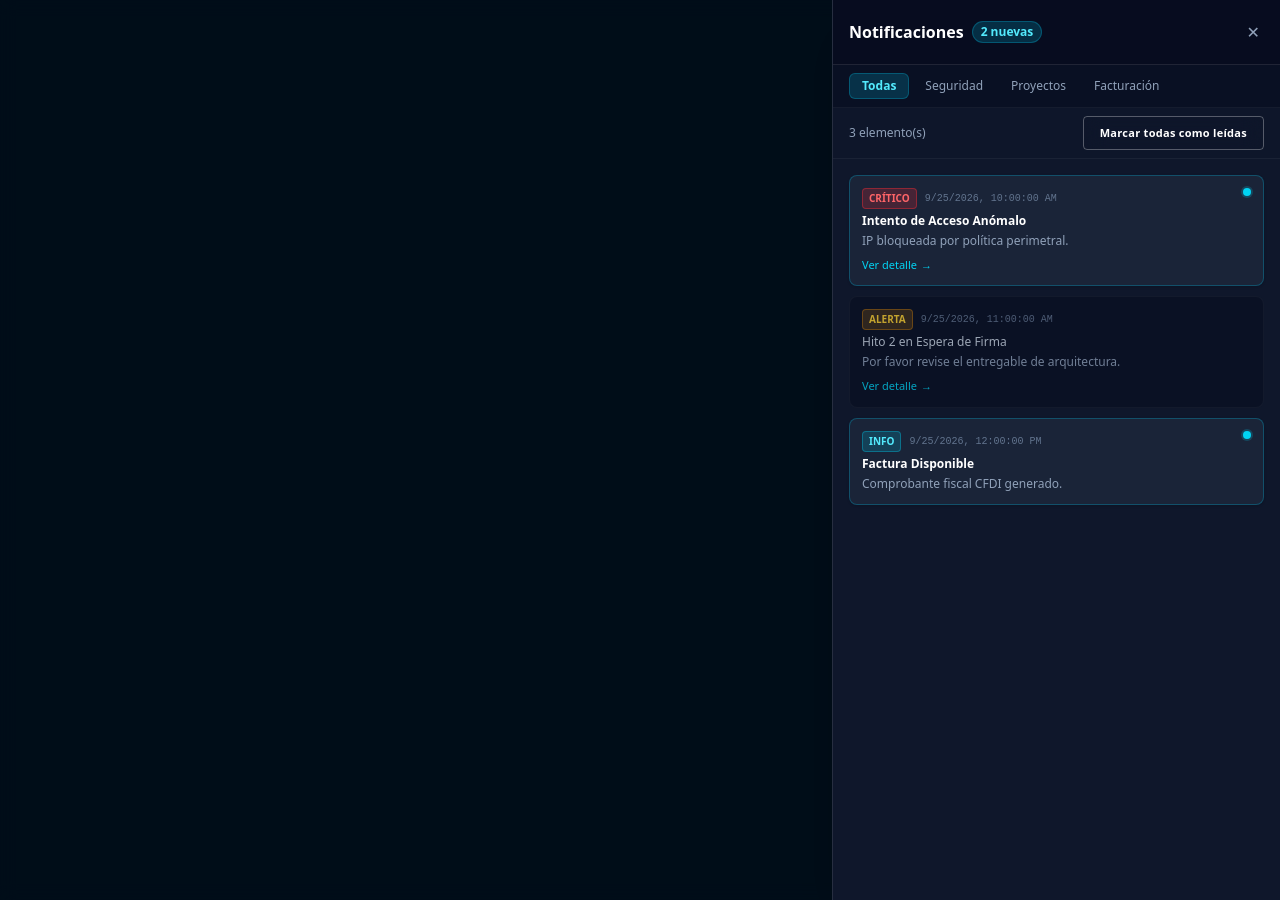
it: FC 053: Frontend Client Notification Center & Security Webhooks Suite › 2. NotificationDrawer Component › debe manejar error al marcar todas como leídas y mostrar mensaje en el panel
Click the button "Marcar todas como leídas" at (1173, 133), box [1083, 116, 1264, 150]
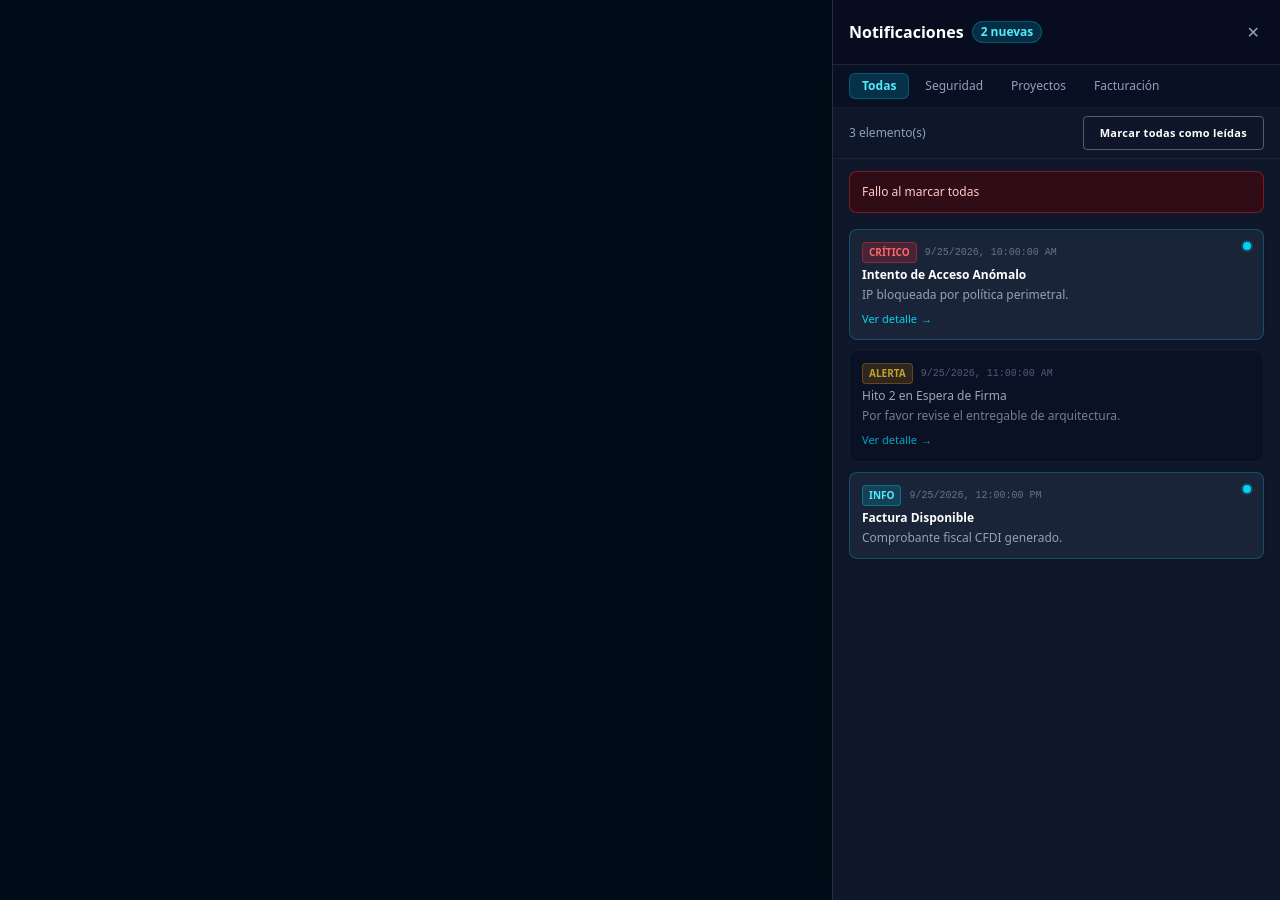
Expected: the text "Fallo al marcar todas" is shown, [849, 171, 1264, 213]
